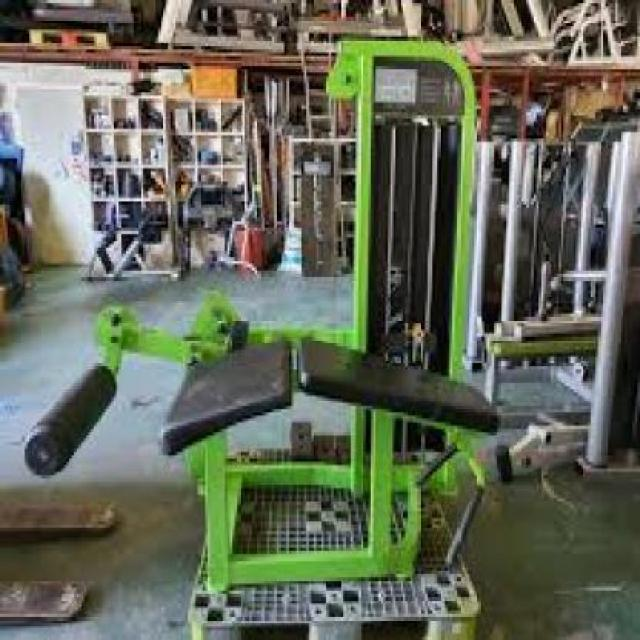reg curl machine: (23, 39, 495, 586)
